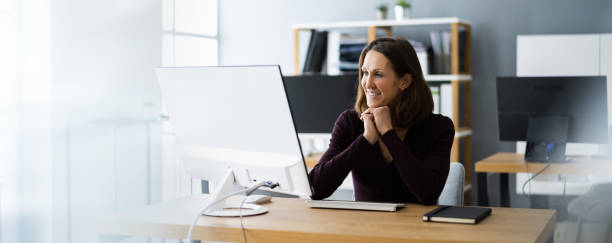without mask: (353, 47, 402, 107)
